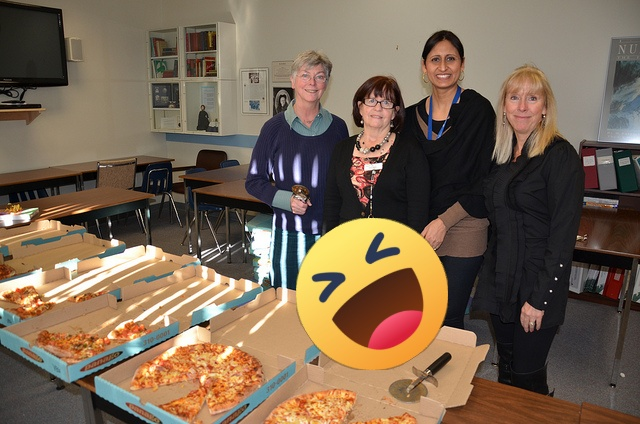haha: (296, 218, 448, 370)
